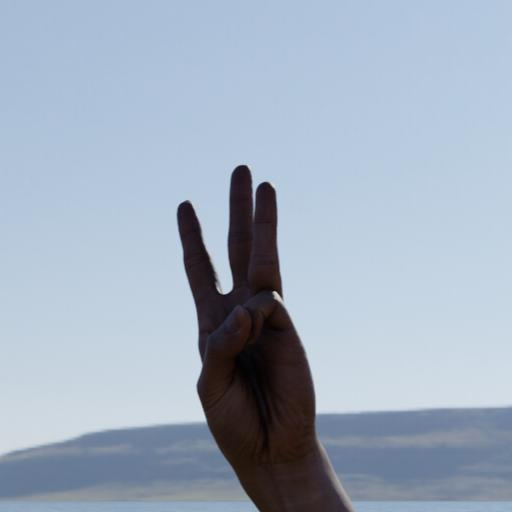W: (144, 152, 333, 492)
